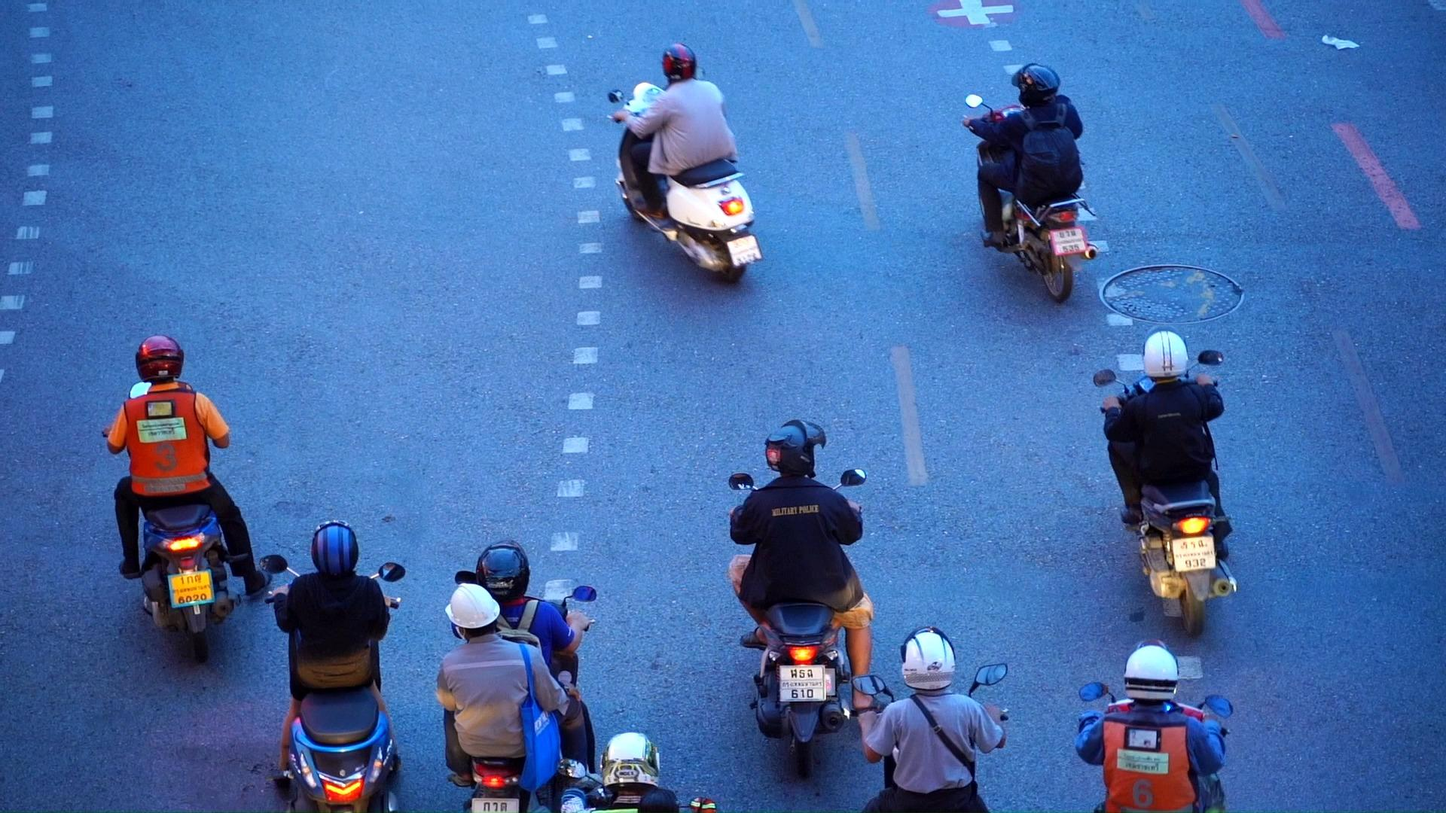driver: (729, 419, 892, 777), (101, 336, 274, 662), (1094, 323, 1237, 638), (437, 540, 597, 813), (259, 518, 407, 813), (607, 42, 765, 284), (961, 62, 1100, 303), (852, 625, 1009, 813), (1076, 637, 1235, 813), (558, 732, 714, 813)
helmet: (765, 419, 827, 479), (900, 626, 956, 692), (600, 732, 660, 792), (1123, 639, 1179, 702), (476, 540, 531, 602), (444, 582, 500, 640), (311, 519, 359, 579), (1142, 323, 1189, 382), (1011, 63, 1061, 111), (135, 336, 184, 383), (662, 44, 697, 82)
